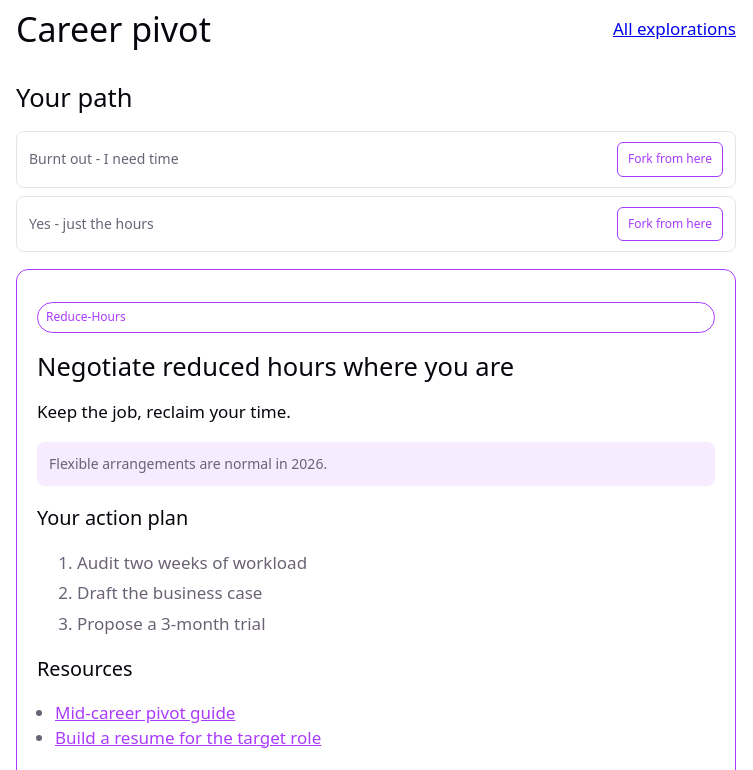
pivot thread › forks at an earlier answer into a new thread
Step 1. Click the button "Fork from here" in the row of "Burnt out - I need time" → (670, 160), box left=617, top=142, right=723, bottom=177
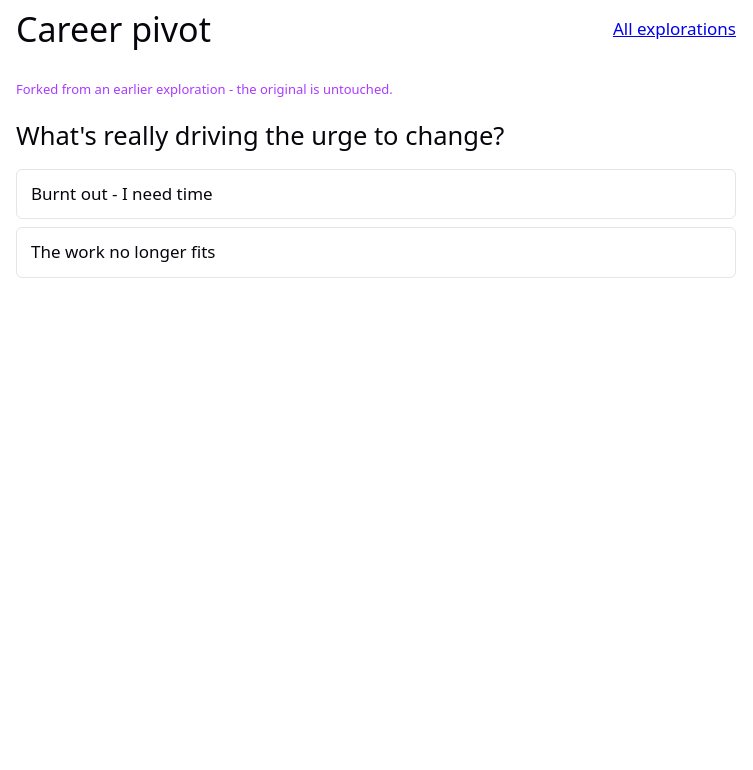
Expected: the heading "What's really driving the urge to change?" is shown, left=16, top=118, right=504, bottom=152
Expected: the text "Forked from an earlier exploration" is shown, left=16, top=80, right=393, bottom=98
